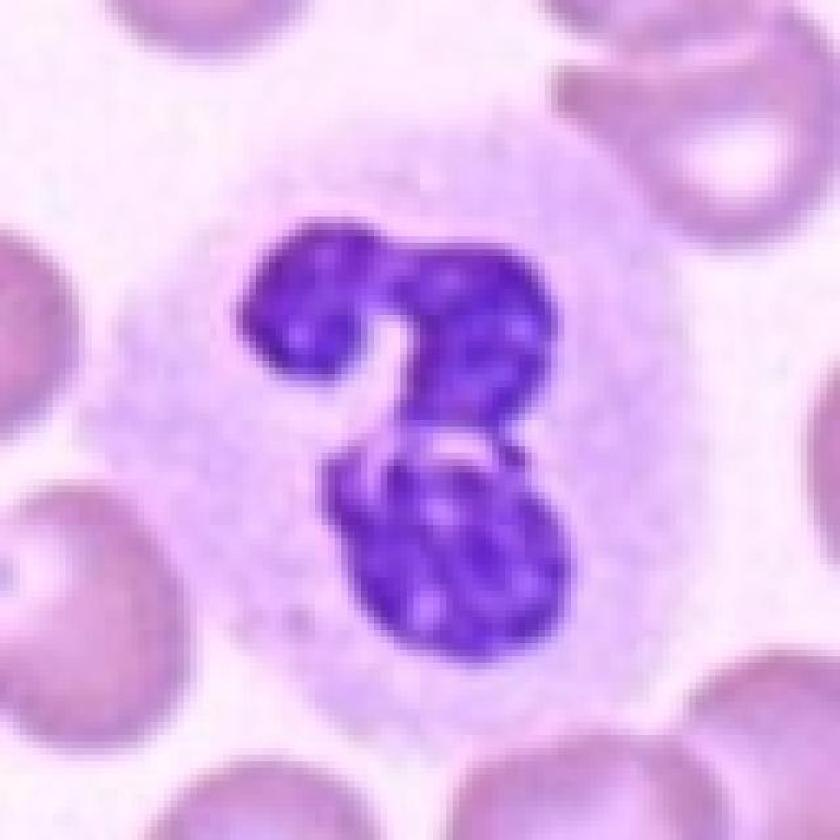neutrophil: (163, 109, 709, 781)
